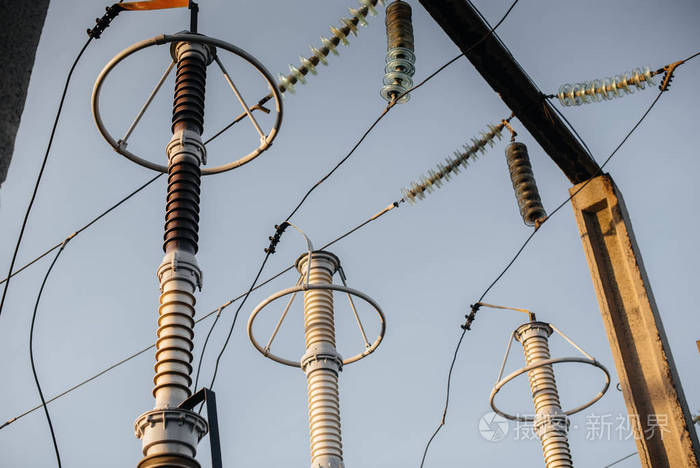insulator: (269, 1, 382, 100), (401, 123, 502, 205), (557, 63, 653, 107), (505, 141, 548, 227), (380, 1, 414, 102)
